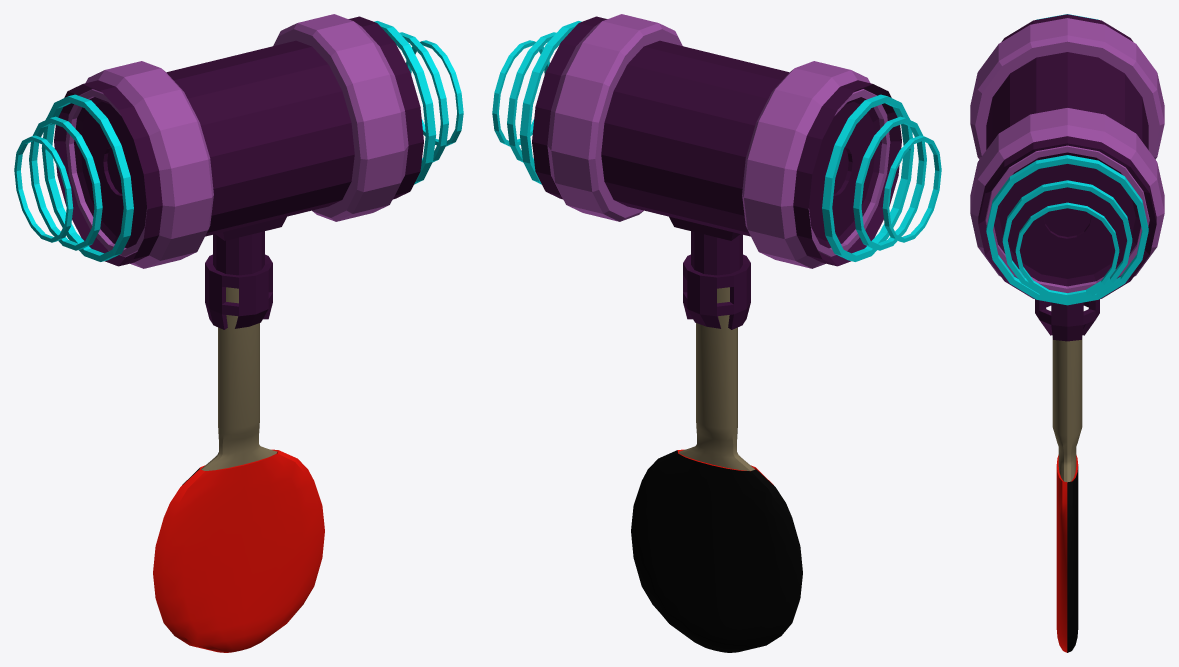
The model's file is Rotator_PingPong.fbx.
3 renders of one model, left to right at view 1: azimuth 30°, elevation 25°; view 2: azimuth 150°, elevation 25°; view 3: azimuth 270°, elevation 25°, orthographic. The views are drawn at different scales.
Visible parts, largest first — view 1: Ping_Pong_Palette, Cilindro copia, Cylinder_Base, Cylinder_Exterior, Cylinder_Ring_1, Cylinder_Ring_2, Cylinder_Ring_3; view 2: Ping_Pong_Palette, Cilindro copia, Cylinder_Base, Cylinder_Exterior, Cylinder_Ring_1, Cylinder_Ring_2, Cylinder_Ring_3; view 3: Cilindro copia, Cylinder_Exterior, Ping_Pong_Palette, Cylinder_Base, Cylinder_Ring_1, Cylinder_Ring_2, Cylinder_Ring_3.
Boxes of the visible parts, x1=… form: Ping_Pong_Palette: x1=153, y1=287, x2=324, y2=652; Cilindro copia: x1=54, y1=16, x2=423, y2=266; Cylinder_Base: x1=167, y1=42, x2=354, y2=329; Cylinder_Exterior: x1=65, y1=14, x2=408, y2=268; Cylinder_Ring_1: x1=41, y1=21, x2=436, y2=261; Cylinder_Ring_2: x1=29, y1=32, x2=448, y2=250; Cylinder_Ring_3: x1=14, y1=40, x2=463, y2=242; Ping_Pong_Palette: x1=631, y1=287, x2=802, y2=652; Cilindro copia: x1=532, y1=16, x2=901, y2=266; Cylinder_Base: x1=601, y1=42, x2=788, y2=329; Cylinder_Exterior: x1=547, y1=14, x2=890, y2=268; Cylinder_Ring_1: x1=519, y1=21, x2=914, y2=261; Cylinder_Ring_2: x1=507, y1=32, x2=926, y2=250; Cylinder_Ring_3: x1=492, y1=40, x2=941, y2=242; Cilindro copia: x1=978, y1=14, x2=1156, y2=298; Cylinder_Exterior: x1=970, y1=18, x2=1164, y2=292; Ping_Pong_Palette: x1=1052, y1=338, x2=1082, y2=652; Cylinder_Base: x1=986, y1=52, x2=1146, y2=341; Cylinder_Ring_1: x1=986, y1=14, x2=1148, y2=305; Cylinder_Ring_2: x1=1002, y1=180, x2=1132, y2=300; Cylinder_Ring_3: x1=1015, y1=202, x2=1119, y2=298.
Size of the model in its own units: 538 by 780 by 240.
